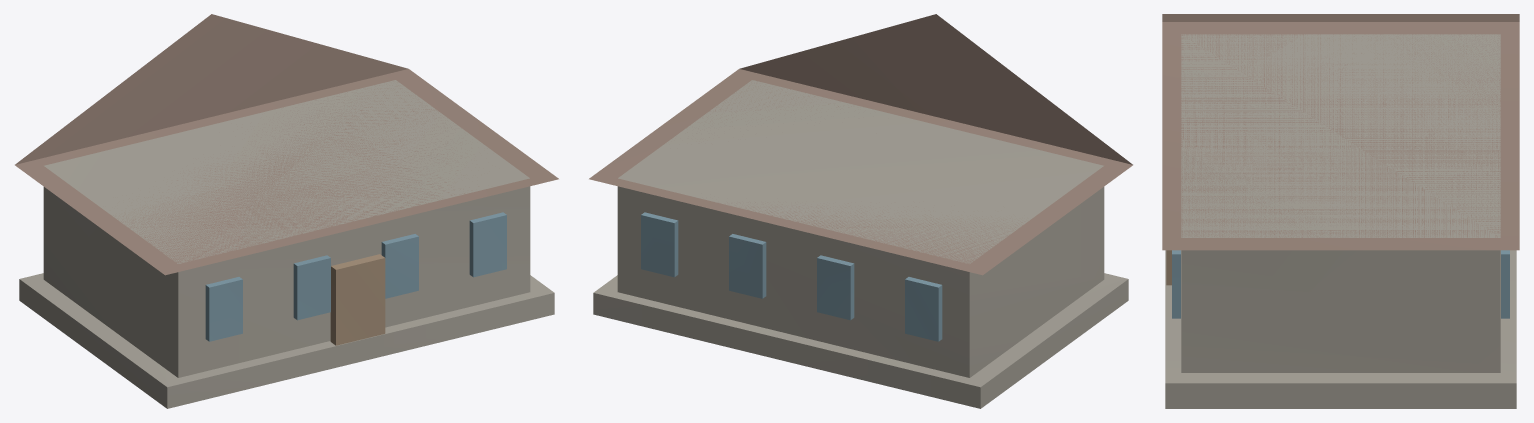
Rendered from townhouse-02.glb.
3 views of the same model, side by side, from view 1: azimuth 30°, elevation 25°; view 2: azimuth 150°, elevation 25°; view 3: azimuth 270°, elevation 25° (orthographic). The views are drawn at different scales.
Parts seen in each view (by area): view 1: world; view 2: world; view 3: world.
Part boxes in pixels (x1,y1,x2,y2): world: [15, 14, 558, 408]; world: [589, 14, 1132, 408]; world: [1162, 14, 1519, 408].
Bounding box in the file's own units: 1.52 × 0.88 × 1.01.
